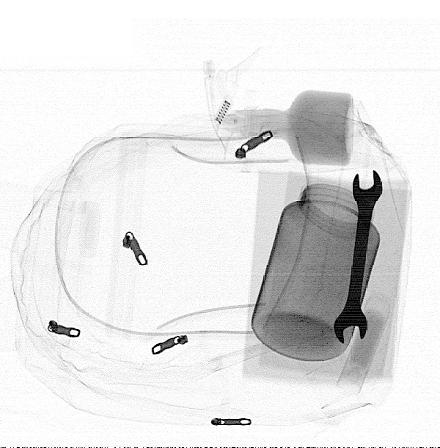Wrench: (332, 167, 383, 348)
